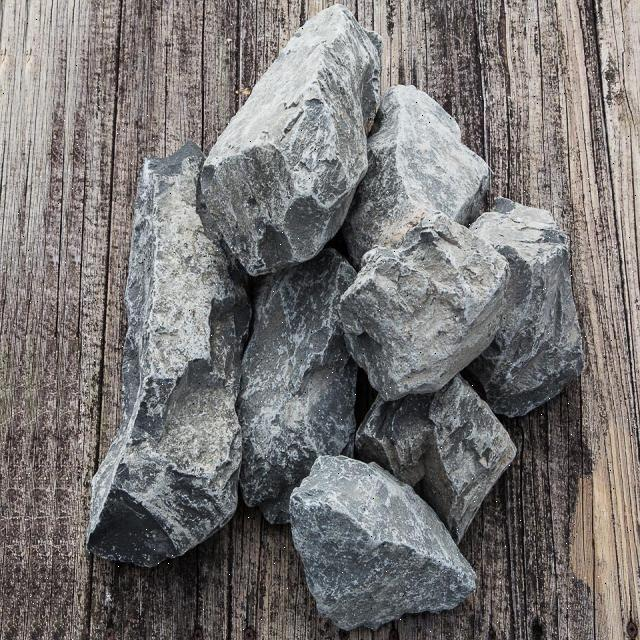Igneous: (110, 10, 568, 627)
